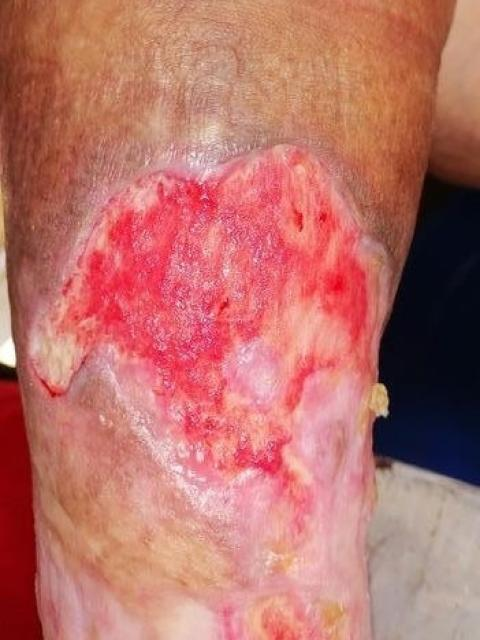wound: (30, 143, 392, 640)
